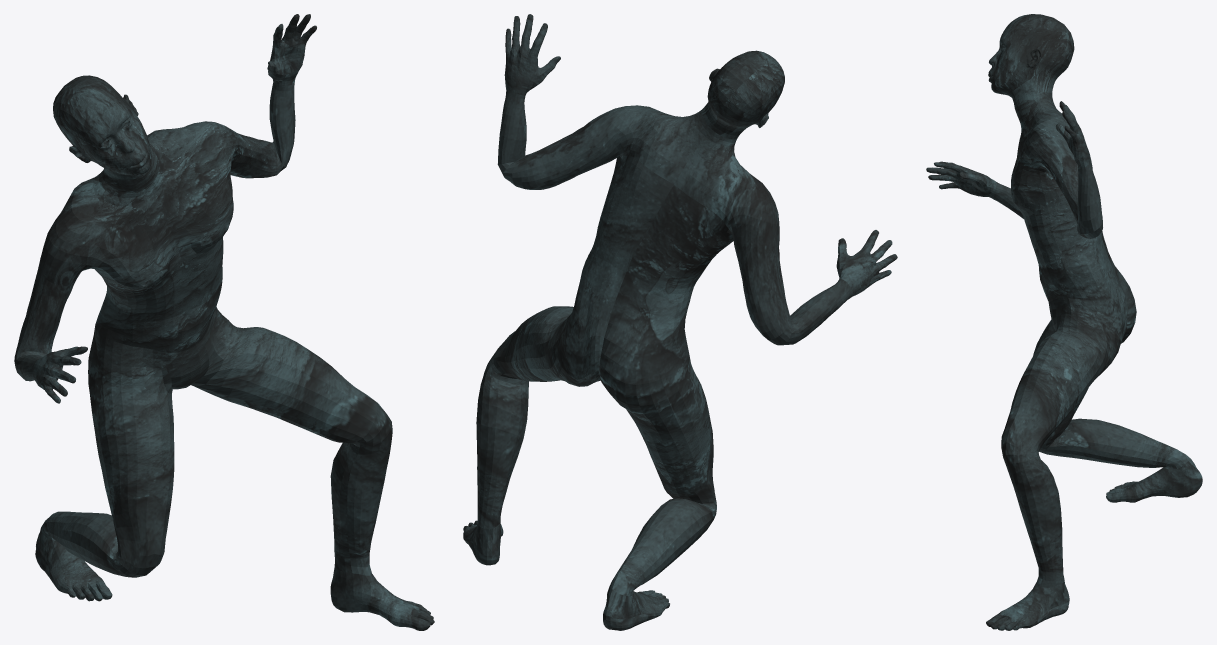
Rendered from body2.fbx.
3 renders of one model, left to right at view 1: azimuth 30°, elevation 25°; view 2: azimuth 150°, elevation 25°; view 3: azimuth 270°, elevation 25°, orthographic. The views are drawn at different scales.
Visible parts, largest first — view 1: body2:DUDEMAN:base_obj; view 2: body2:DUDEMAN:base_obj; view 3: body2:DUDEMAN:base_obj.
Part boxes in pixels (bbox=[...]): body2:DUDEMAN:base_obj: bbox=[14, 14, 434, 630]; body2:DUDEMAN:base_obj: bbox=[463, 14, 897, 630]; body2:DUDEMAN:base_obj: bbox=[926, 14, 1202, 630].
Size of the model in its own units: 9.88 by 13.73 by 7.
